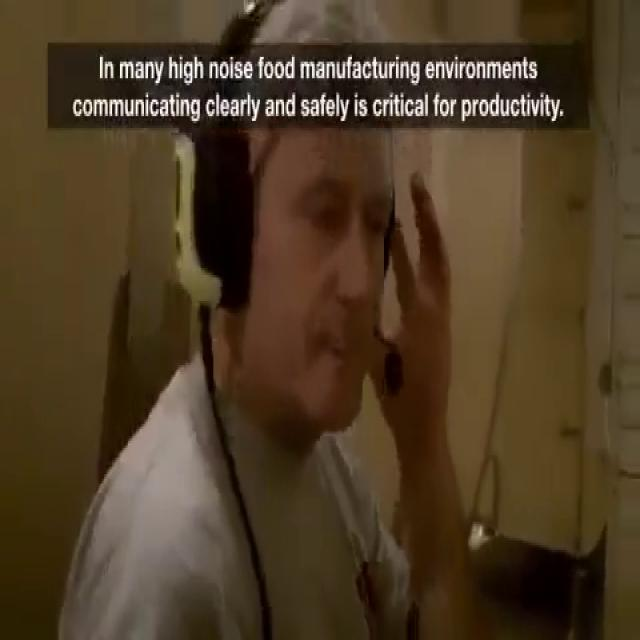earmuff: (170, 99, 261, 311)
